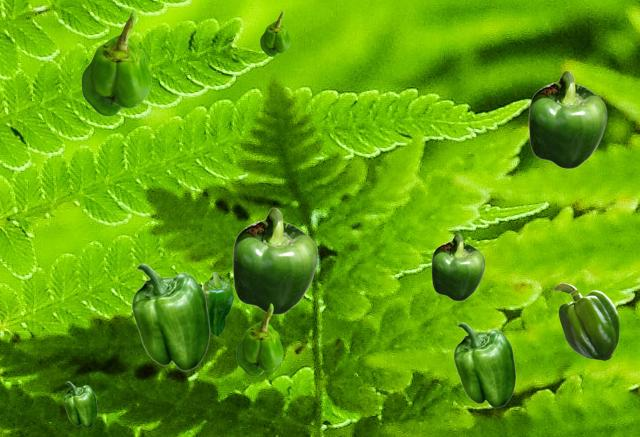bell_pepper: (232, 207, 317, 314), (131, 263, 209, 370), (528, 70, 606, 168), (81, 8, 150, 115), (453, 322, 515, 407), (553, 283, 618, 359), (431, 233, 484, 300), (236, 303, 282, 375), (201, 272, 232, 335), (63, 381, 96, 427), (260, 9, 289, 55)
